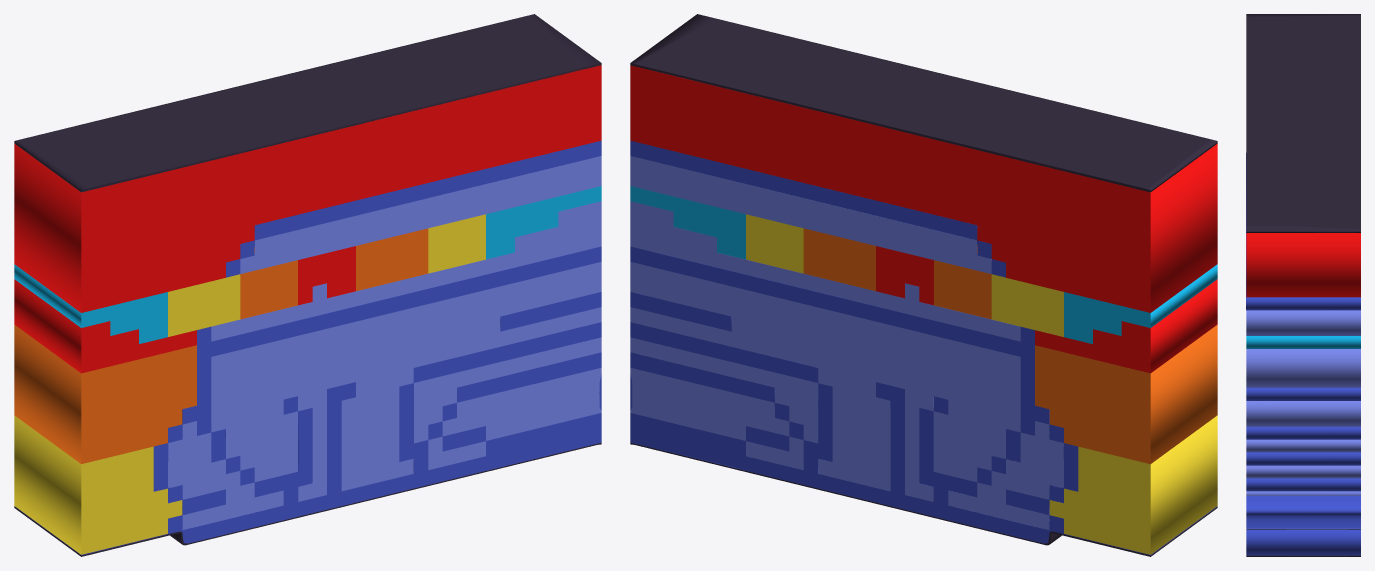
File: Toadz_2471.glb
3 views of the same model, side by side, from view 1: azimuth 30°, elevation 25°; view 2: azimuth 150°, elevation 25°; view 3: azimuth 270°, elevation 25° (orthographic). The views are drawn at different scales.
Visible parts, largest first — view 1: Curve; view 2: Curve; view 3: Curve.
Boxes of the visible parts, x1,y1,x2,y2 form: Curve: (14, 14, 601, 556); Curve: (630, 14, 1217, 556); Curve: (1246, 14, 1360, 556).
Size of the model in its own units: 4.48 by 3.14 by 1.
